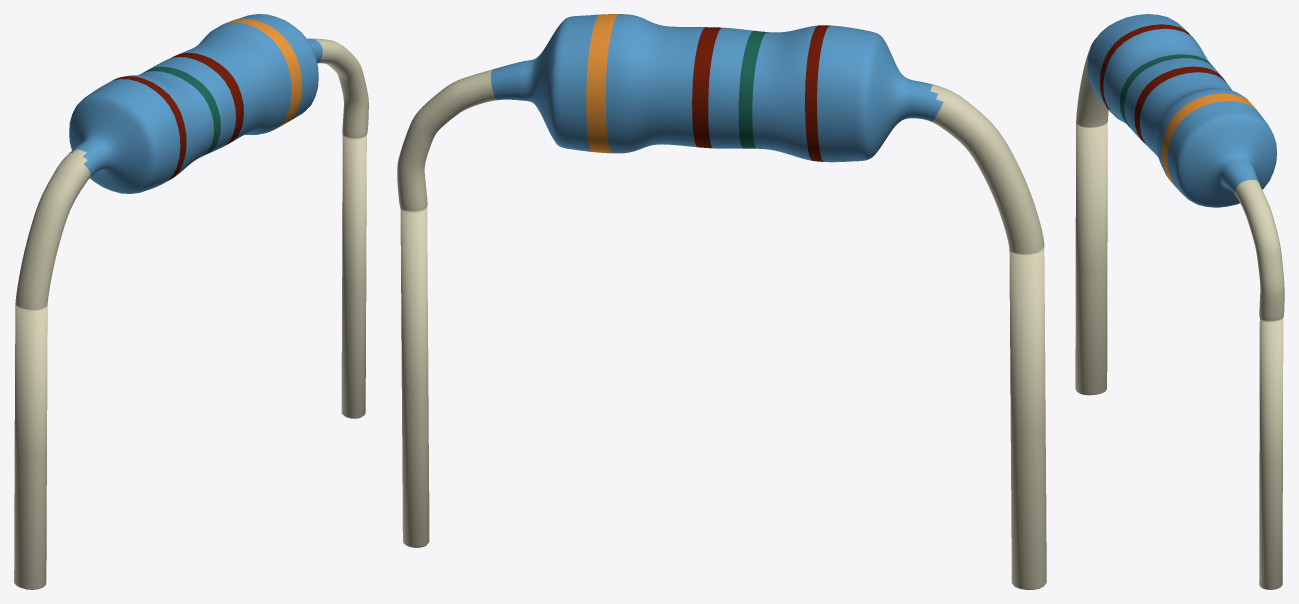
The model's file is resistor5.fbx.
3 renders of one model, left to right at view 1: azimuth 30°, elevation 25°; view 2: azimuth 150°, elevation 25°; view 3: azimuth 270°, elevation 25°, orthographic. The views are drawn at different scales.
Visible parts, largest first — view 1: Cube; view 2: Cube; view 3: Cube.
Boxes of the visible parts, x1,y1,x2,y2 form: Cube: [14, 14, 368, 589]; Cube: [397, 14, 1046, 589]; Cube: [1075, 14, 1284, 589].
Bounding box in the file's own units: 108 × 105 × 45.95.
